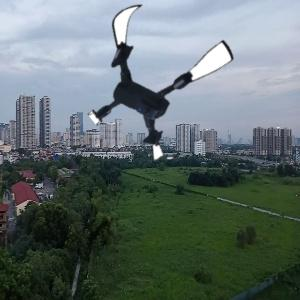drone: (81, 2, 236, 157)
